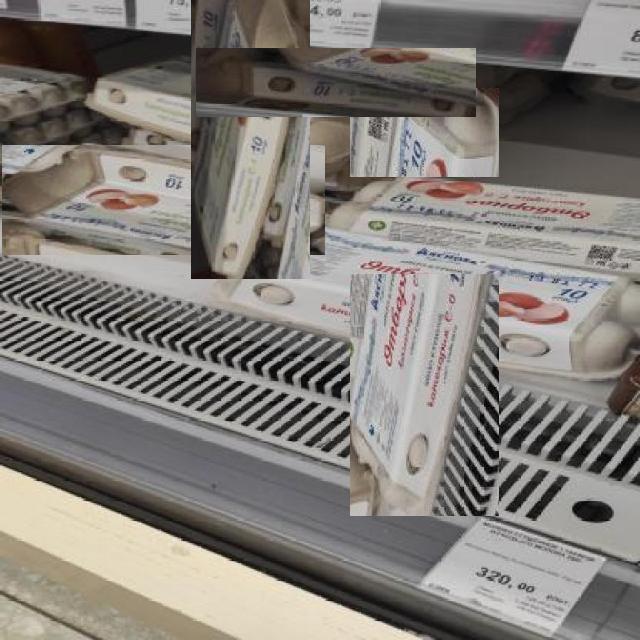Egg: (351, 88, 499, 516), (1, 144, 325, 255), (191, 0, 310, 279), (325, 177, 639, 274), (195, 47, 476, 117)
